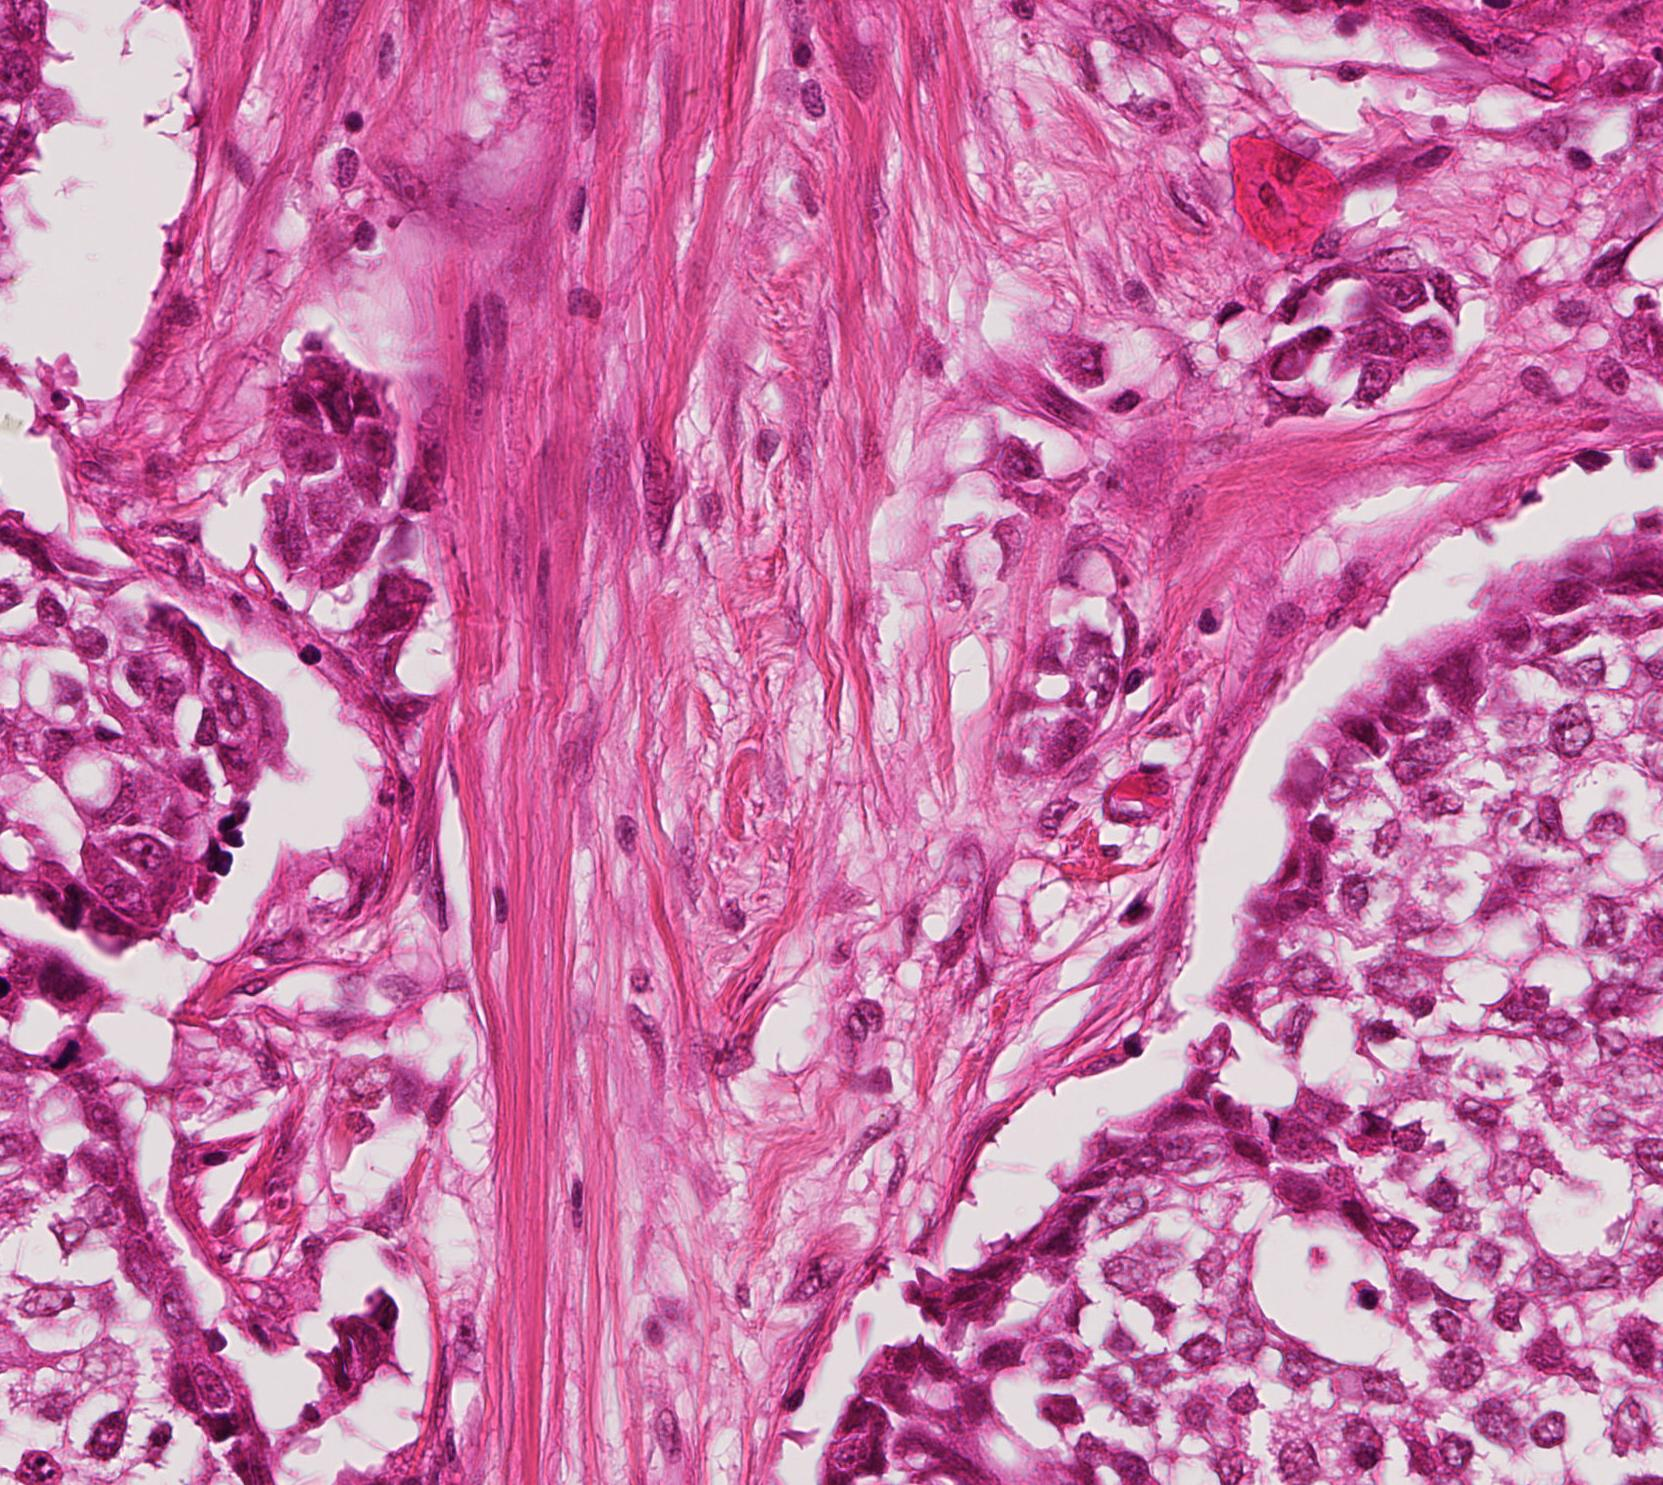mitosis: (34, 1018, 95, 1076)
